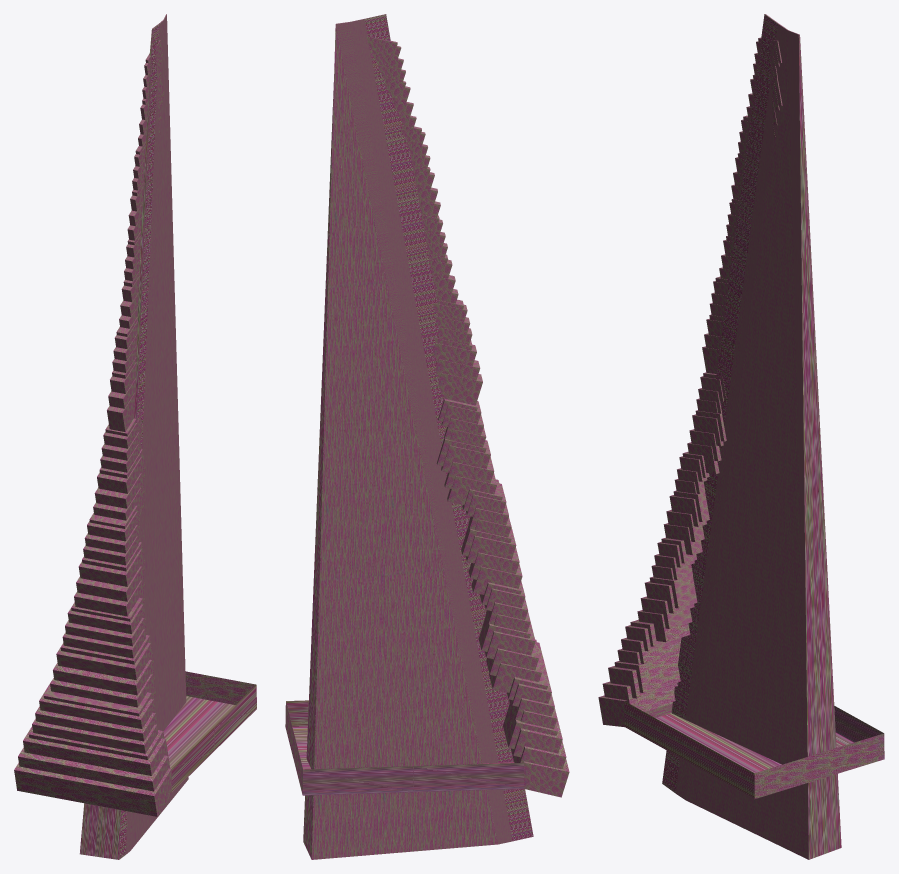
The model's file is escaleras.glb.
3 views of the same model, side by side, from view 1: azimuth 30°, elevation 25°; view 2: azimuth 150°, elevation 25°; view 3: azimuth 270°, elevation 25° (orthographic). The views are drawn at different scales.
Parts seen in each view (by area): view 1: Cube.001, Cube, Cube.002, Cube.004, Cube.003; view 2: Cube, Cube.001, Cube.002, Cube.004, Cube.003; view 3: Cube, Cube.001, Cube.002, Cube.004, Cube.003.
Part boxes in pixels (<box>): Cube.001: <box>14,598,256,816</box>; Cube: <box>79,14,188,859</box>; Cube.002: <box>74,413,145,616</box>; Cube.004: <box>107,231,141,431</box>; Cube.003: <box>127,40,163,240</box>; Cube: <box>303,14,533,859</box>; Cube.001: <box>285,581,569,797</box>; Cube.002: <box>436,399,522,594</box>; Cube.004: <box>421,215,482,405</box>; Cube.003: <box>366,36,440,217</box>; Cube: <box>662,14,841,859</box>; Cube.001: <box>598,537,884,798</box>; Cube.002: <box>663,372,726,554</box>; Cube.004: <box>702,199,739,373</box>; Cube.003: <box>731,37,782,199</box>.
Size of what is drawn, in the model's own units: 8.01 by 23.34 by 7.41.
Materials: 2 (2 with a texture image).
